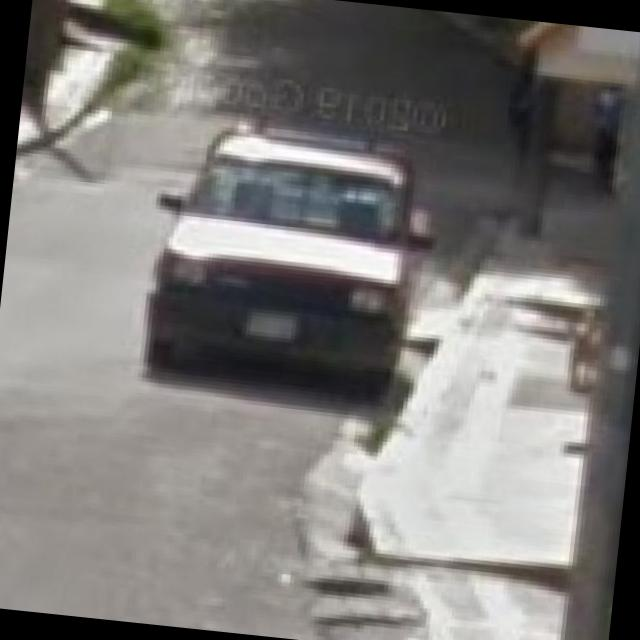car: (126, 131, 434, 404)
